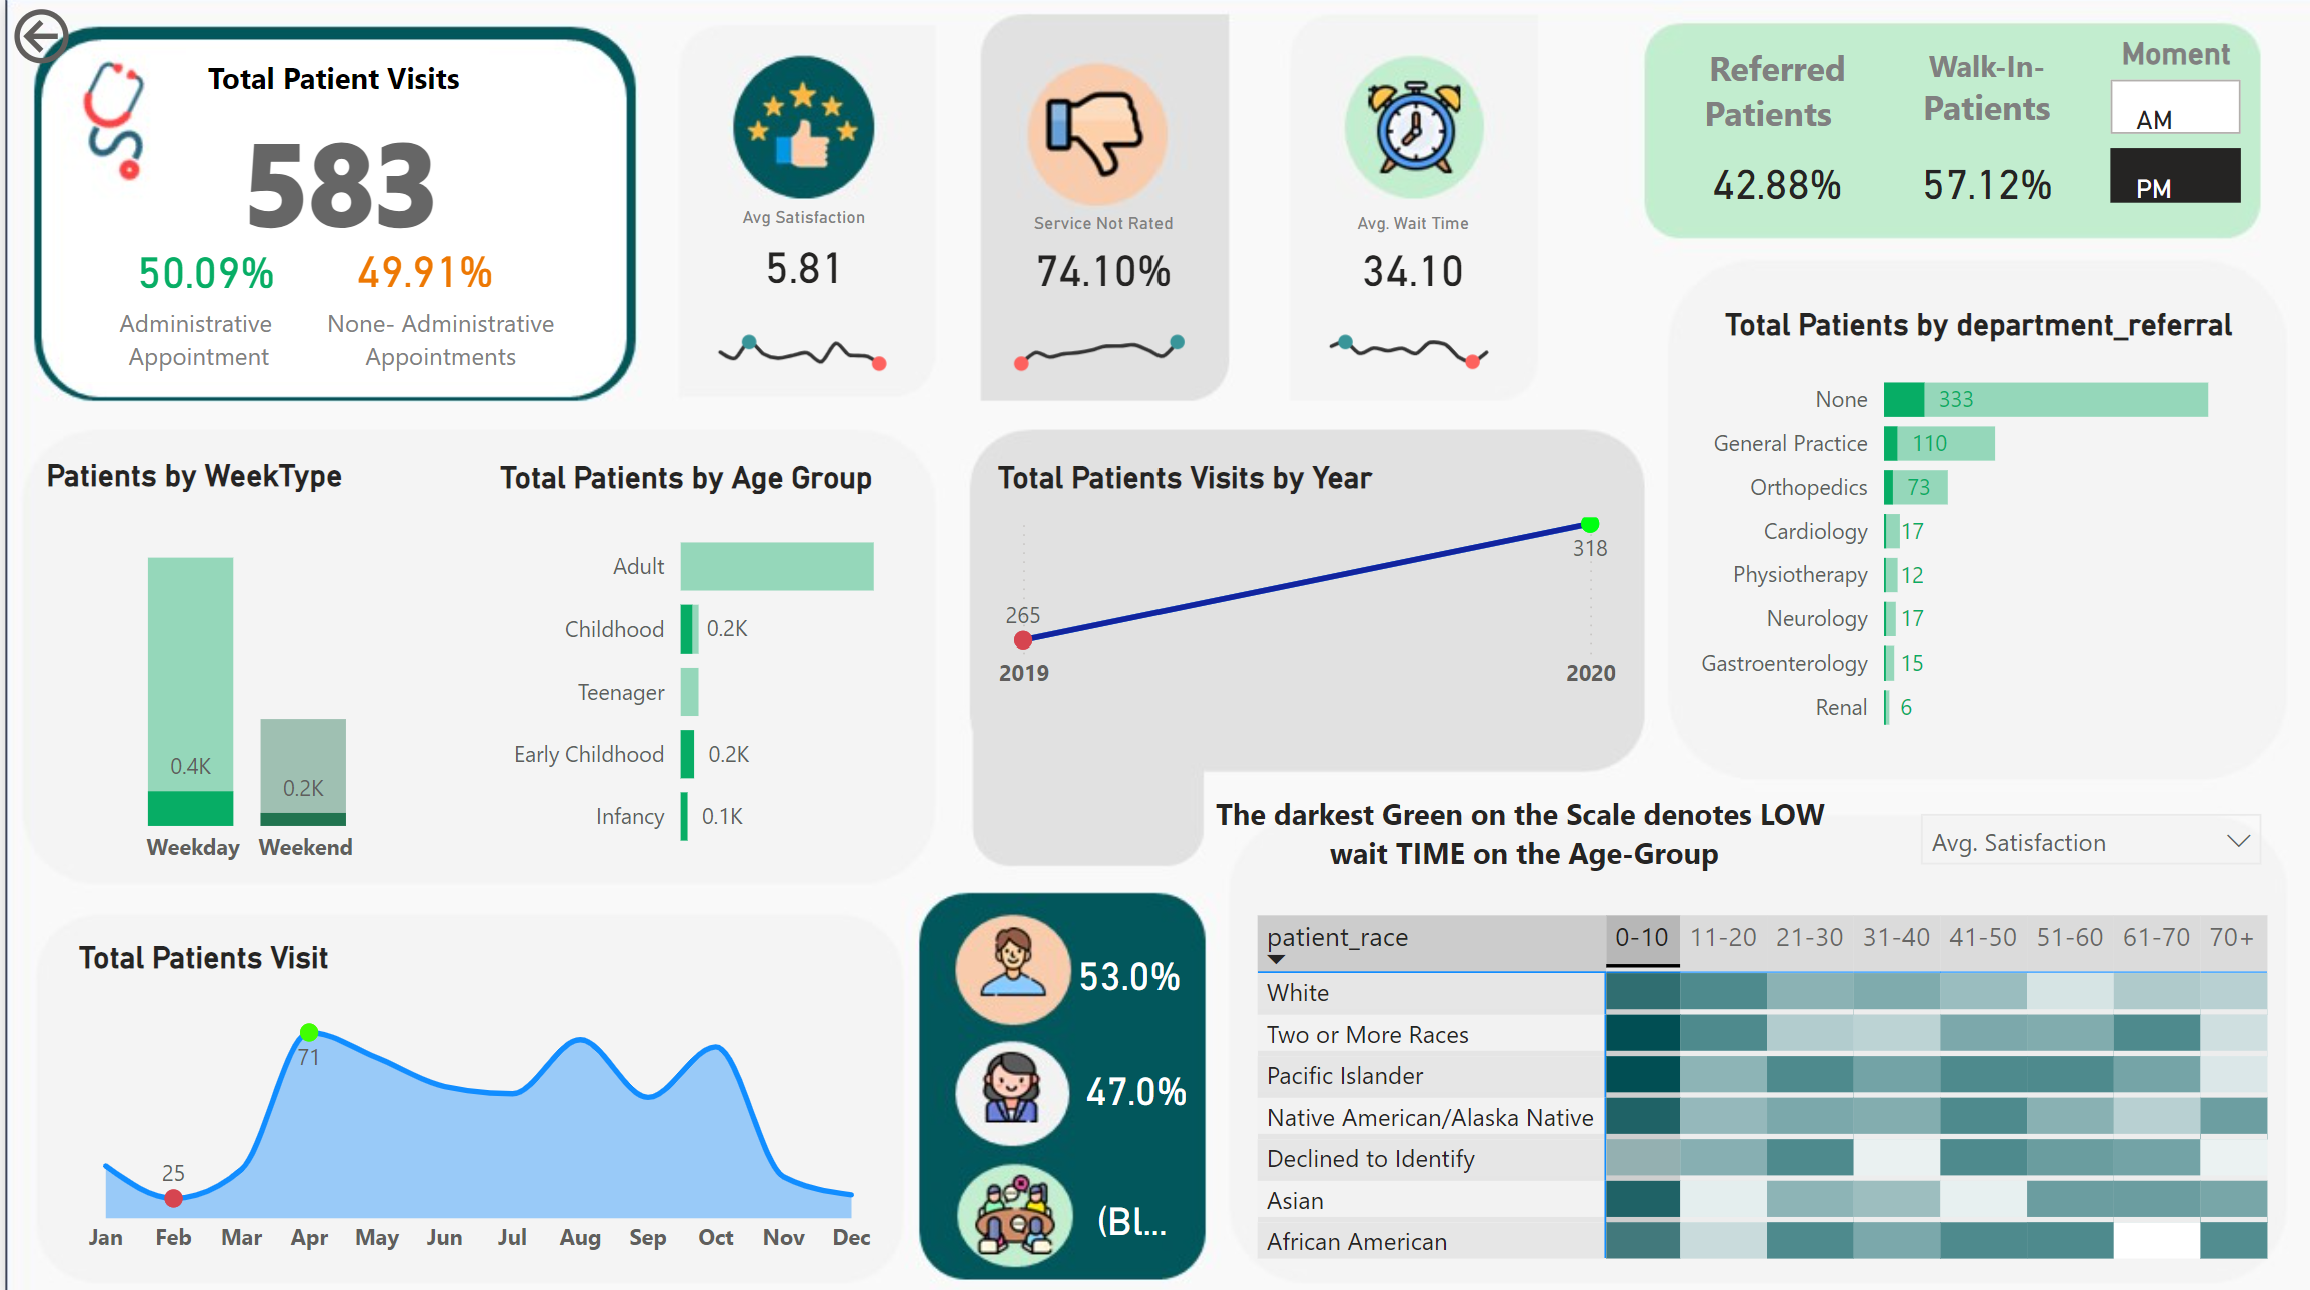

What the dashboard file says about the page in this screenshot:
{"tool":"powerbi","page":{"name":"Page 1","canvas":[1280,720],"ordinal":0},"visuals":[{"type":"card","fields":{"Values":["Calculation.Total Patients"]},"box":[81.5,61.7,209.8,70.4],"z":0},{"type":"card","fields":{"Values":["Calculation.% Administrative Schedule"]},"box":[64.2,134.5,92.6,30.9],"z":1000},{"type":"card","fields":{"Values":["Calculation.% None - Administrative Schedule"]},"box":[186.4,134.5,91.3,29.6],"z":2000},{"type":"card","title":"Avg Satisfaction","fields":{"Values":["Calculation.Average Satisfaction Score"]},"box":[377.3,114.7,128.7,54.7],"z":3000},{"type":"card","title":"Service Not Rated","fields":{"Values":["Calculation.Measure"]},"box":[544,118,126.7,51.3],"z":4000},{"type":"card","title":"Avg. Wait Time ","fields":{"Values":["Calculation.Average Wait Time"]},"box":[716,118,126.7,51.3],"z":5000},{"type":"pivotTable","fields":{"Values":["Calculation.Average Satisfaction Score"],"Rows":["Patients DataSet.patient_race"],"Columns":["Patients DataSet.Age Buckets"]},"box":[687.5,501.1,592.5,203.7],"z":6000},{"type":"slicer","fields":{"Values":["Parameter.Parameter"]},"box":[1050,440,208.6,54.3],"z":7000},{"type":"clusteredBarChart","fields":{"Category":["Patients DataSet.Age Group"],"Y":["Calculation.Total Patients"]},"box":[268.6,254.3,237.1,230],"z":8000},{"type":"actionButton","box":[0,0,100,40],"z":9000},{"type":"lineChart","title":"Total Patients Visit","fields":{"Category":["Date.Month"],"Y":["Calculation.Total Patients","Calculation.Values Max Point (Month)"]},"box":[35.7,520,452.9,182.9],"z":10000},{"type":"advancedSlicerVisual","fields":{"Values":["Patients DataSet.Moment"]},"box":[1160,20,82.9,98.6],"z":11000},{"type":"lineChart","title":"Total Patients Visits by Year","fields":{"Y":["Calculation.Total Patients","Calculation.Values Max Point (Year)"],"Category":["Date.Year"]},"box":[544.3,254.3,351.4,135.7],"z":12000},{"type":"clusteredBarChart","fields":{"Y":["Calculation.Total Patients"],"Category":["Patients DataSet.department_referral"]},"box":[925.7,170,332.9,245.7],"z":13000},{"type":"card","fields":{"Values":["Calculation.% Referred Patients"]},"box":[932.9,82.9,94.3,35.7],"z":14000},{"type":"card","fields":{"Values":["Calculation.% Un Referred Patients"]},"box":[1050,82.9,92.9,35.7],"z":15000},{"type":"card","fields":{"Values":["Calculation.HitMap Caption"]},"box":[648.6,427.1,378.6,67.1],"z":16000},{"type":"textbox","box":[35.8,164.2,143.2,46.9],"z":17000},{"type":"textbox","box":[170.3,164.2,145.7,46.9],"z":18000},{"type":"textbox","box":[932.9,20,94.3,60],"z":19000},{"type":"textbox","box":[1050,20,92.9,60],"z":20000},{"type":"clusteredColumnChart","title":"Patients by WeekType","fields":{"Y":["Calculation.Total Patients"],"Category":["Date.WeekType"]},"box":[17.3,253,234.5,233.3],"z":21000},{"type":"card","fields":{"Values":["Calculation.% Female Visit"]},"box":[581.4,520,81.4,38.6],"z":22000},{"type":"card","fields":{"Values":["Calculation.% Male Visit"]},"box":[588.6,578.6,74.3,48.6],"z":23000},{"type":"card","fields":{"Values":["Calculation.% Unknown"]},"box":[594.3,645.7,58.6,58.6],"z":24000},{"type":"textbox","box":[100,27.2,167.9,33.3],"z":25000},{"type":"PBI_CV_25997FEB_F466_44FA_B562_AC4063283C4C","fields":{"measure":["Calculation.Average Satisfaction Score"],"axis":["Date.Month"]},"box":[377.3,172.7,128.7,40],"z":26000},{"type":"PBI_CV_25997FEB_F466_44FA_B562_AC4063283C4C","fields":{"measure":["Calculation.% No Rating"],"axis":["Date.Month"]},"box":[544.7,172.7,126,40],"z":27000},{"type":"PBI_CV_25997FEB_F466_44FA_B562_AC4063283C4C","fields":{"measure":["Calculation.Average Wait Time"],"axis":["Date.Month"]},"box":[716,172.7,126.7,39.3],"z":28000}]}

Visuals, with their boxes in screenshot pixels (x1, y1, x2, y2), scaled from the page's 1280x720 canvas onto the 2310x1290 screenshot:
card - Calculation.Total Patients: [left=147, top=111, right=526, bottom=237]
card - Calculation.% Administrative Schedule: [left=116, top=241, right=283, bottom=296]
card - Calculation.% None - Administrative Schedule: [left=336, top=241, right=501, bottom=294]
"Avg Satisfaction" card: [left=681, top=206, right=913, bottom=304]
"Service Not Rated" card: [left=982, top=211, right=1210, bottom=303]
"Avg. Wait Time " card: [left=1292, top=211, right=1521, bottom=303]
pivotTable - Calculation.Average Satisfaction Score x Patients DataSet.patient_race: [left=1241, top=898, right=2309, bottom=1263]
slicer - Parameter.Parameter: [left=1895, top=788, right=2271, bottom=886]
clusteredBarChart - Patients DataSet.Age Group x Calculation.Total Patients: [left=485, top=456, right=913, bottom=868]
actionButton: [left=0, top=0, right=180, bottom=72]
"Total Patients Visit" lineChart: [left=64, top=932, right=882, bottom=1259]
advancedSlicerVisual - Patients DataSet.Moment: [left=2093, top=36, right=2243, bottom=212]
"Total Patients Visits by Year" lineChart: [left=982, top=456, right=1616, bottom=699]
clusteredBarChart - Calculation.Total Patients x Patients DataSet.department_referral: [left=1671, top=305, right=2271, bottom=745]
card - Calculation.% Referred Patients: [left=1684, top=149, right=1854, bottom=212]
card - Calculation.% Un Referred Patients: [left=1895, top=149, right=2063, bottom=212]
card - Calculation.HitMap Caption: [left=1171, top=765, right=1854, bottom=885]
textbox: [left=65, top=294, right=323, bottom=378]
textbox: [left=307, top=294, right=570, bottom=378]
textbox: [left=1684, top=36, right=1854, bottom=143]
textbox: [left=1895, top=36, right=2063, bottom=143]
"Patients by WeekType" clusteredColumnChart: [left=31, top=453, right=454, bottom=871]
card - Calculation.% Female Visit: [left=1049, top=932, right=1196, bottom=1001]
card - Calculation.% Male Visit: [left=1062, top=1037, right=1196, bottom=1124]
card - Calculation.% Unknown: [left=1073, top=1157, right=1178, bottom=1262]
textbox: [left=180, top=49, right=483, bottom=108]
PBI_CV_25997FEB_F466_44FA_B562_AC4063283C4C - Calculation.Average Satisfaction Score x Date.Month: [left=681, top=309, right=913, bottom=381]
PBI_CV_25997FEB_F466_44FA_B562_AC4063283C4C - Calculation.% No Rating x Date.Month: [left=983, top=309, right=1210, bottom=381]
PBI_CV_25997FEB_F466_44FA_B562_AC4063283C4C - Calculation.Average Wait Time x Date.Month: [left=1292, top=309, right=1521, bottom=380]
